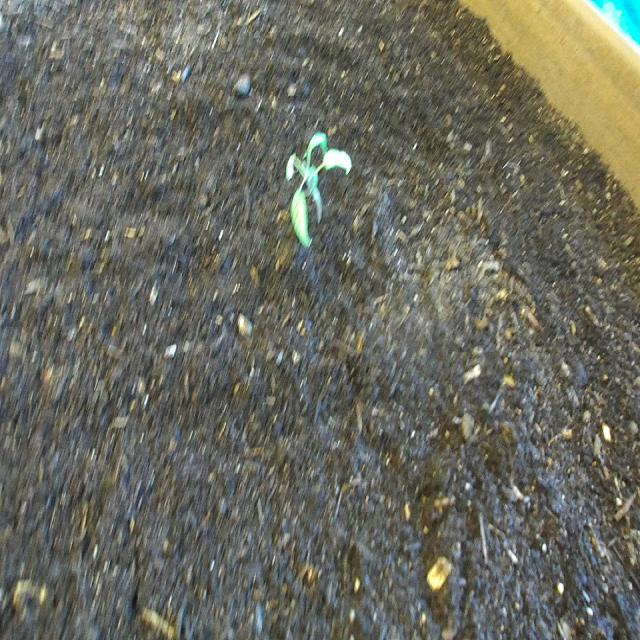Healthy: (286, 129, 354, 254)
